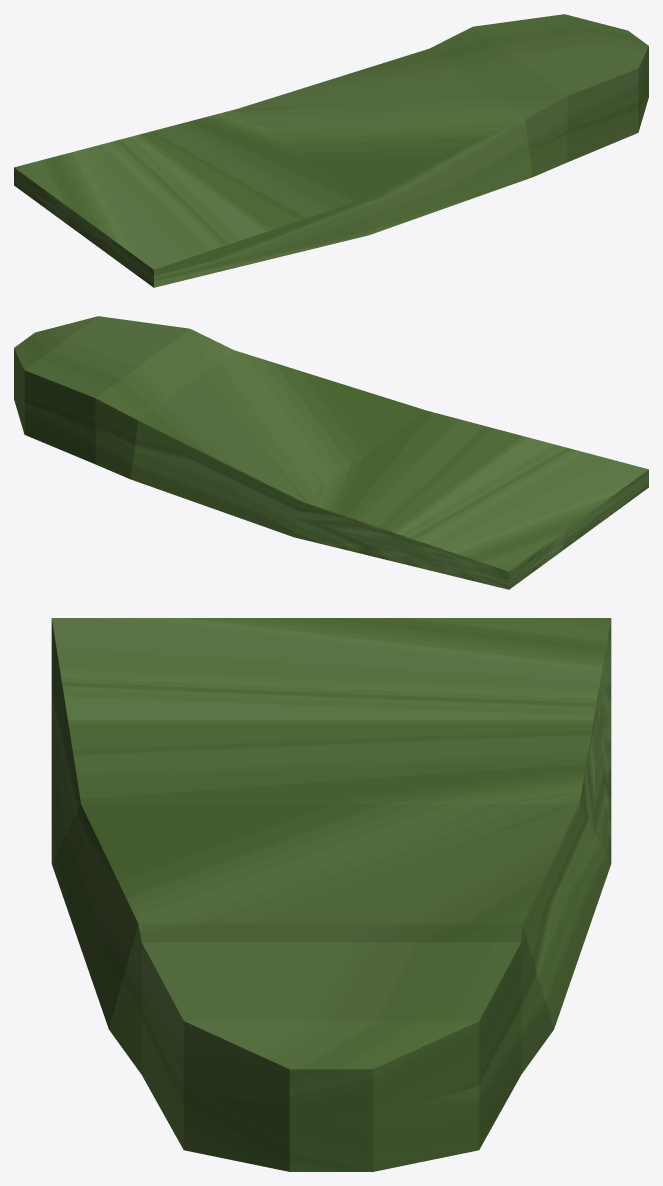
File: palme de plonge.fbx
3 renders of one model, top to bottom at view 1: azimuth 30°, elevation 25°; view 2: azimuth 150°, elevation 25°; view 3: azimuth 270°, elevation 25°, orthographic. The views are drawn at different scales.
Parts seen in each view (by area): view 1: Cube; view 2: Cube; view 3: Cube.
Part boxes in pixels (x1,y1,x2,y2): Cube: [14, 14, 648, 287]; Cube: [14, 316, 648, 589]; Cube: [51, 618, 611, 1171].
Bounding box in the file's own units: 458 × 54.59 × 200.
1 material, 1 textured.
